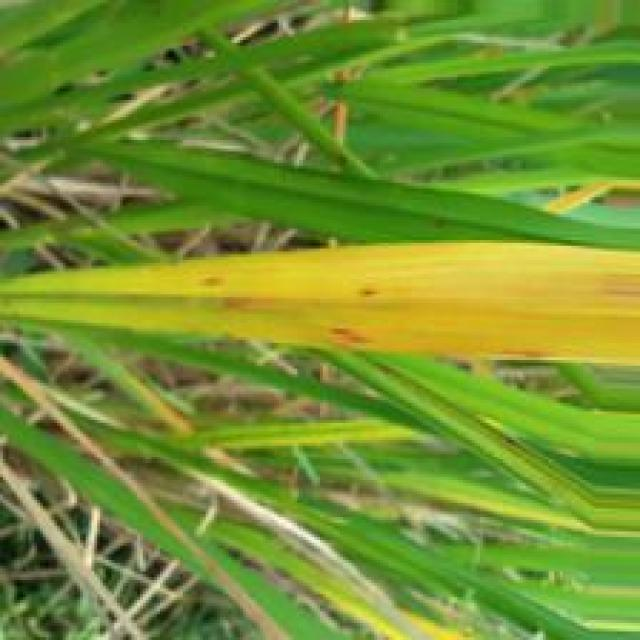Narrow_Brown_Leaf_Spot: (163, 240, 640, 373)
